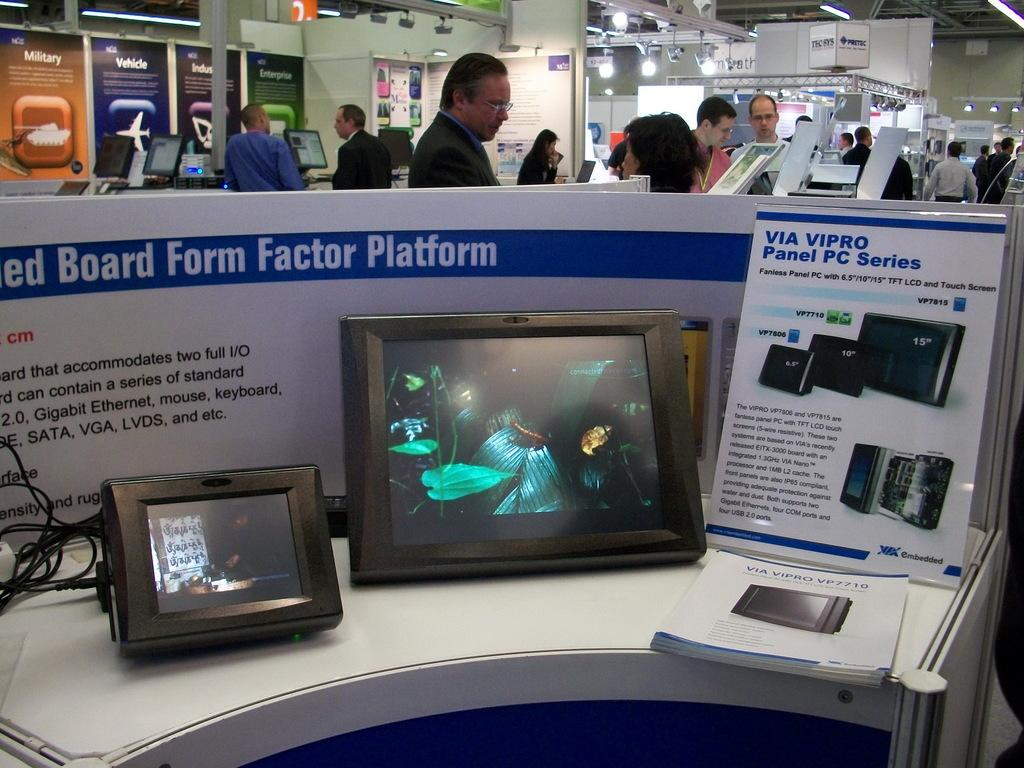Computer-monitor: (332, 304, 715, 589), (694, 139, 788, 198), (76, 127, 128, 184), (367, 119, 419, 172), (282, 124, 329, 172), (138, 135, 185, 181), (47, 180, 96, 198)
